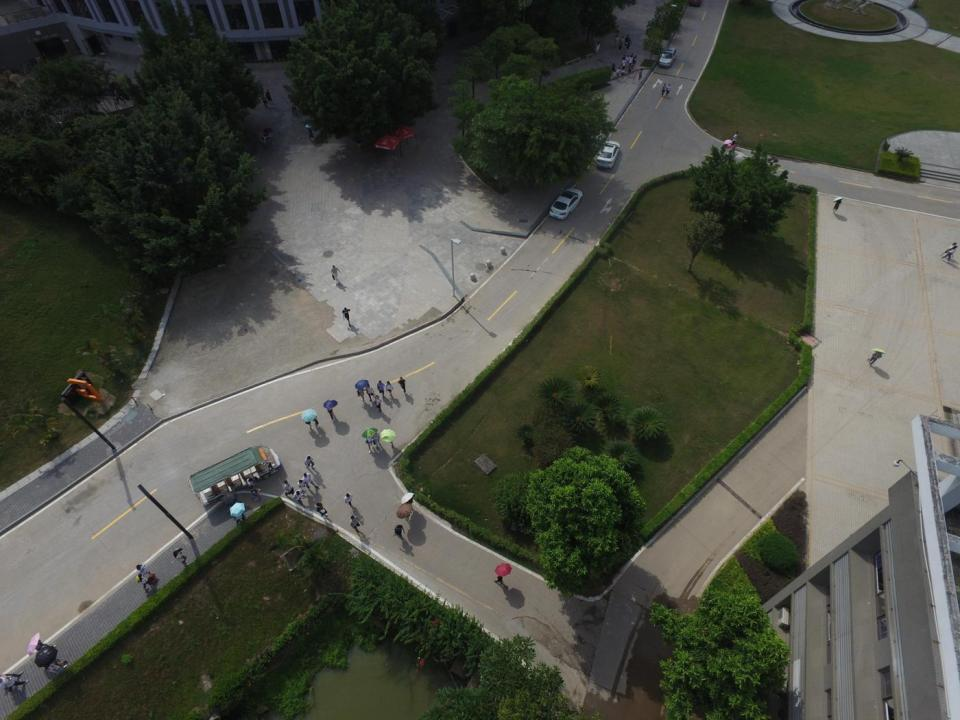car: (549, 188, 584, 219), (595, 140, 620, 168), (658, 47, 676, 68)
